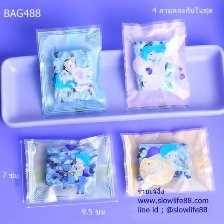snack: (114, 121, 220, 201), (28, 19, 110, 122), (16, 127, 120, 207), (114, 16, 195, 115)
